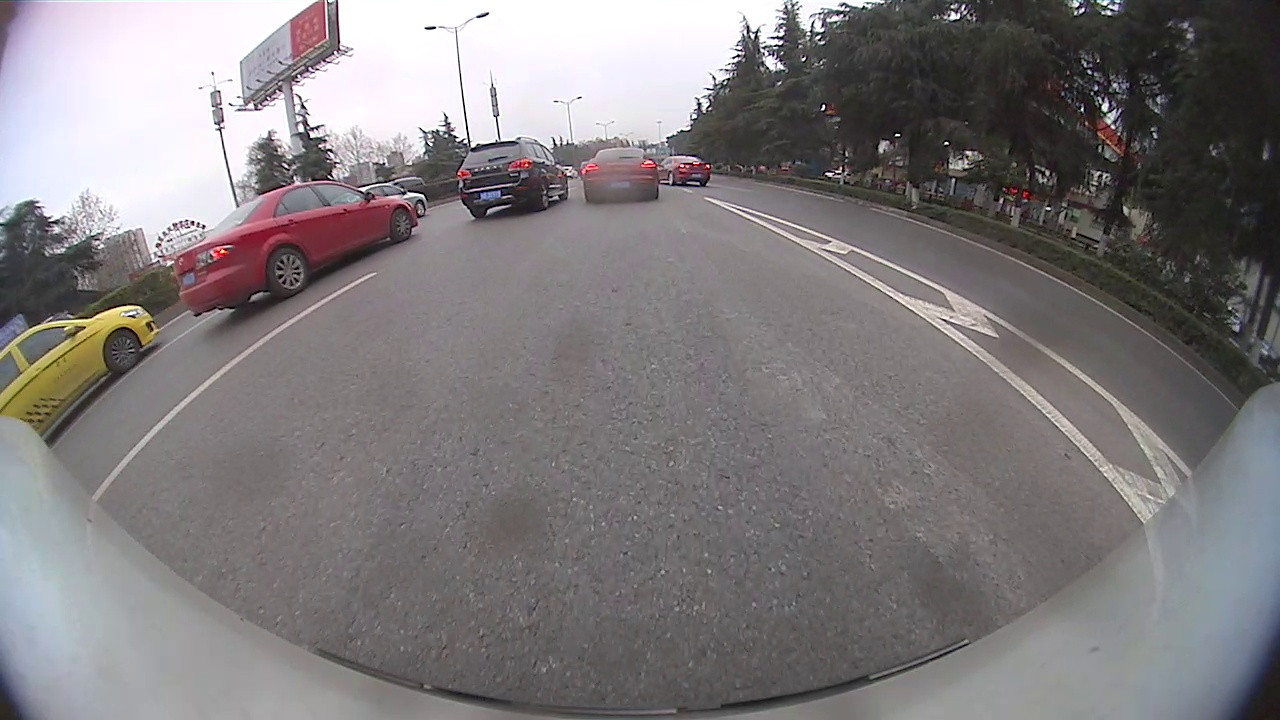car: (174, 180, 420, 314), (0, 300, 159, 440), (461, 137, 569, 214), (581, 147, 665, 206), (657, 155, 709, 188)
front: (103, 326, 144, 374), (386, 207, 415, 245), (415, 200, 427, 218)
rear: (265, 245, 311, 301), (537, 181, 551, 212)
